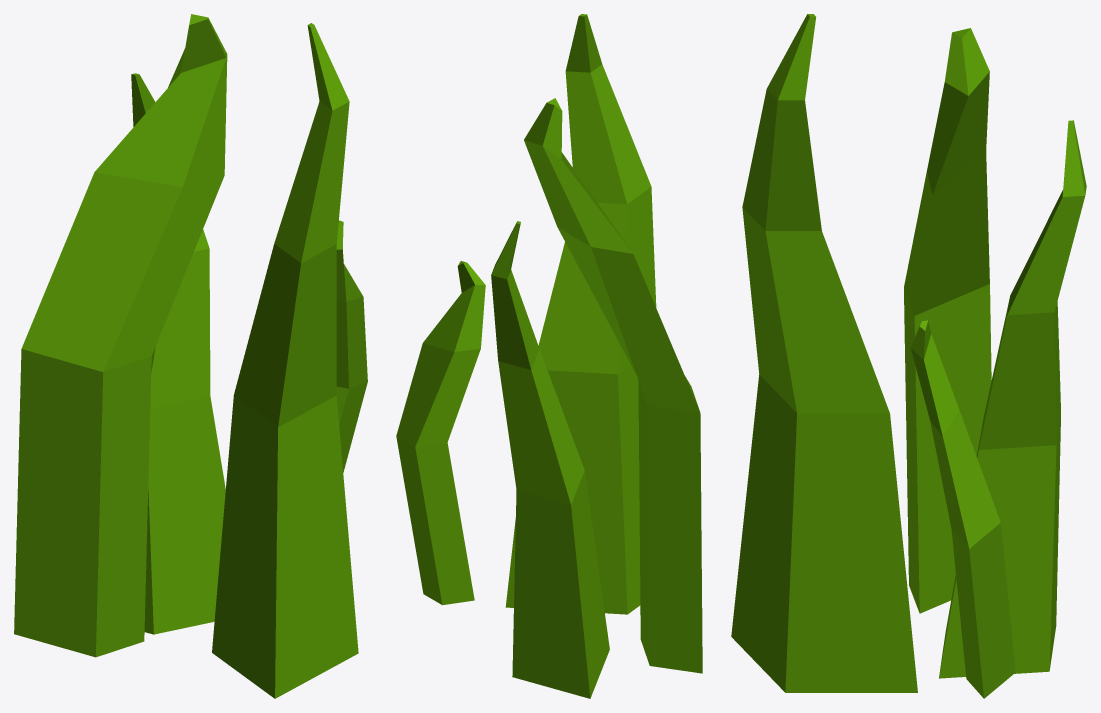
Rendered from Grass1.fbx.
3 views of the same model, side by side, from view 1: azimuth 30°, elevation 25°; view 2: azimuth 150°, elevation 25°; view 3: azimuth 270°, elevation 25° (orthographic). The views are drawn at different scales.
Parts seen in each view (by area): view 1: Cube.002; view 2: Cube.002; view 3: Cube.002.
Boxes of the visible parts, x1,y1,x2,y2 form: Cube.002: (14,14,367,698); Cube.002: (396,14,702,698); Cube.002: (731,14,1086,698).
Bounding box in the file's own units: 54.03 × 95.61 × 45.66.
